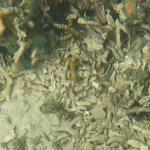alive: (3, 1, 147, 145)
